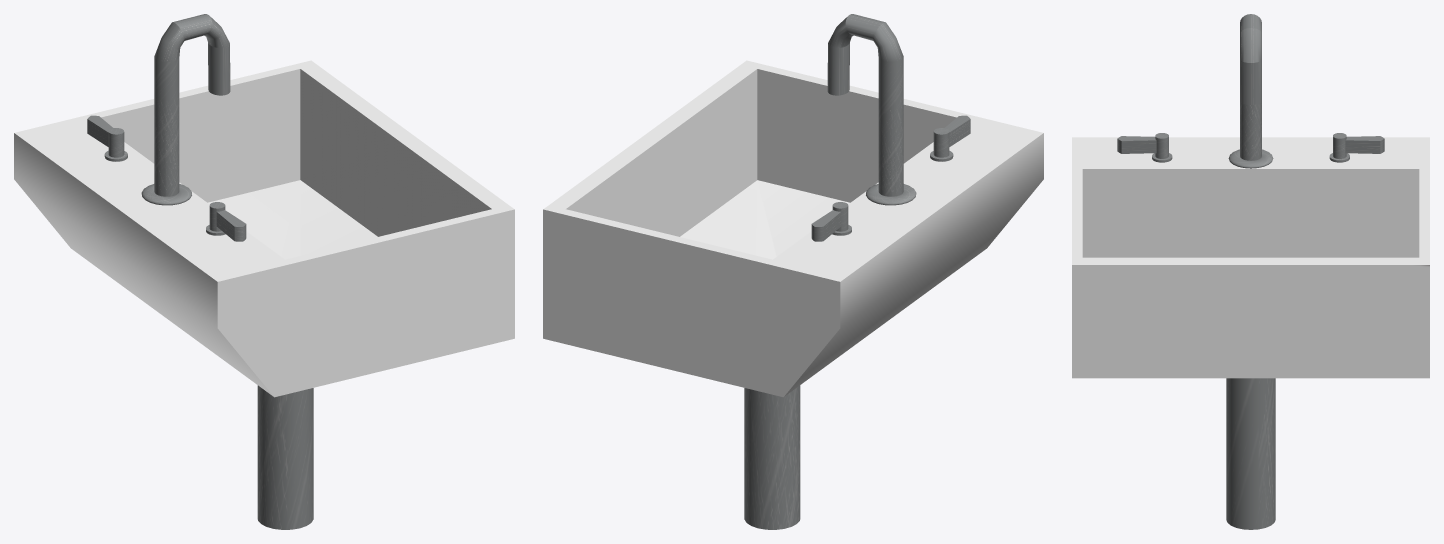
The model's file is sink.fbx.
3 views of the same model, side by side, from view 1: azimuth 30°, elevation 25°; view 2: azimuth 150°, elevation 25°; view 3: azimuth 270°, elevation 25° (orthographic). The views are drawn at different scales.
Parts seen in each view (by area): view 1: pCylinder8, pCylinder5; view 2: pCylinder8, pCylinder5; view 3: pCylinder8, pCylinder5.
Part boxes in pixels (left/top/right/bottom): pCylinder8: left=14, top=14, right=514, bottom=397; pCylinder5: left=257, top=385, right=313, bottom=529; pCylinder8: left=543, top=14, right=1043, bottom=397; pCylinder5: left=744, top=385, right=800, bottom=529; pCylinder8: left=1072, top=14, right=1429, bottom=378; pCylinder5: left=1226, top=378, right=1275, bottom=529.
Size of the model in its own units: 5.09 by 8.54 by 6.04.
Materials: 1 (1 with a texture image).
